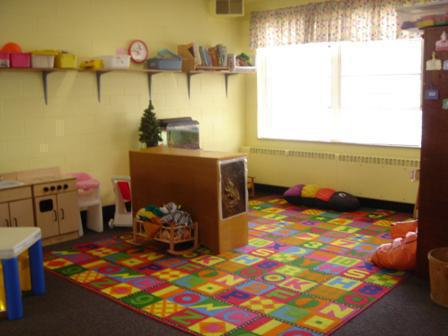Bote de Basura: (426, 244, 447, 311)
Otro Obstaculo: (281, 177, 365, 221), (132, 207, 198, 260), (371, 216, 422, 273)
Ventana: (259, 43, 425, 148)
